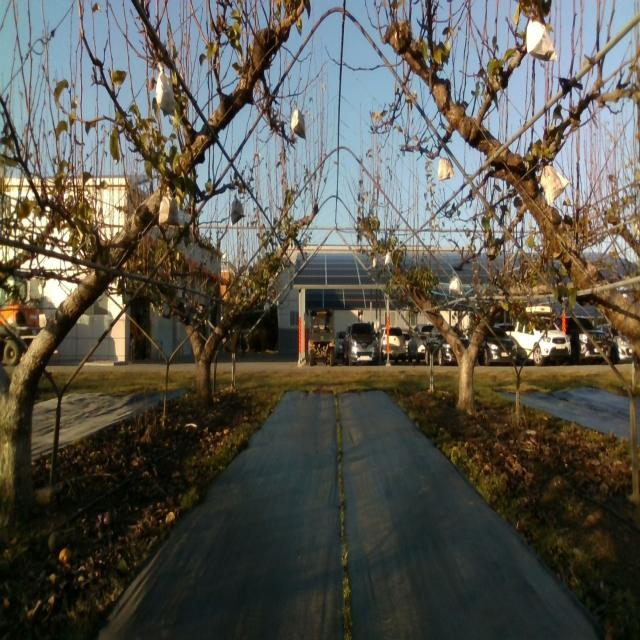pearbags: (525, 18, 558, 62), (540, 166, 570, 205), (156, 62, 176, 117), (158, 186, 178, 227), (291, 101, 306, 140), (230, 194, 247, 226), (437, 155, 454, 182), (449, 270, 461, 295)
